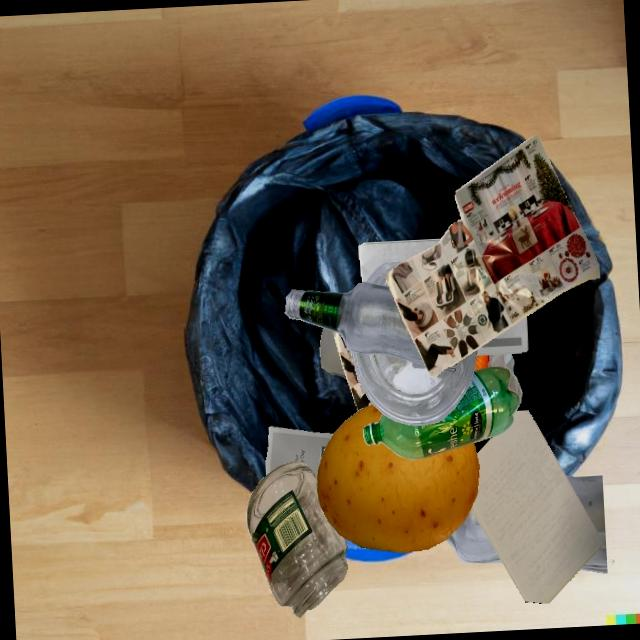biowaste: (317, 404, 479, 553), (474, 355, 488, 371)
glass: (247, 461, 348, 618), (285, 282, 426, 366), (565, 475, 608, 573), (445, 509, 502, 563)
paper: (385, 135, 599, 376), (471, 410, 604, 603), (266, 426, 334, 480), (358, 239, 441, 282), (333, 331, 373, 411), (477, 316, 528, 356), (487, 354, 522, 404)
plastic: (363, 367, 520, 460), (351, 349, 478, 426), (320, 328, 347, 379)
